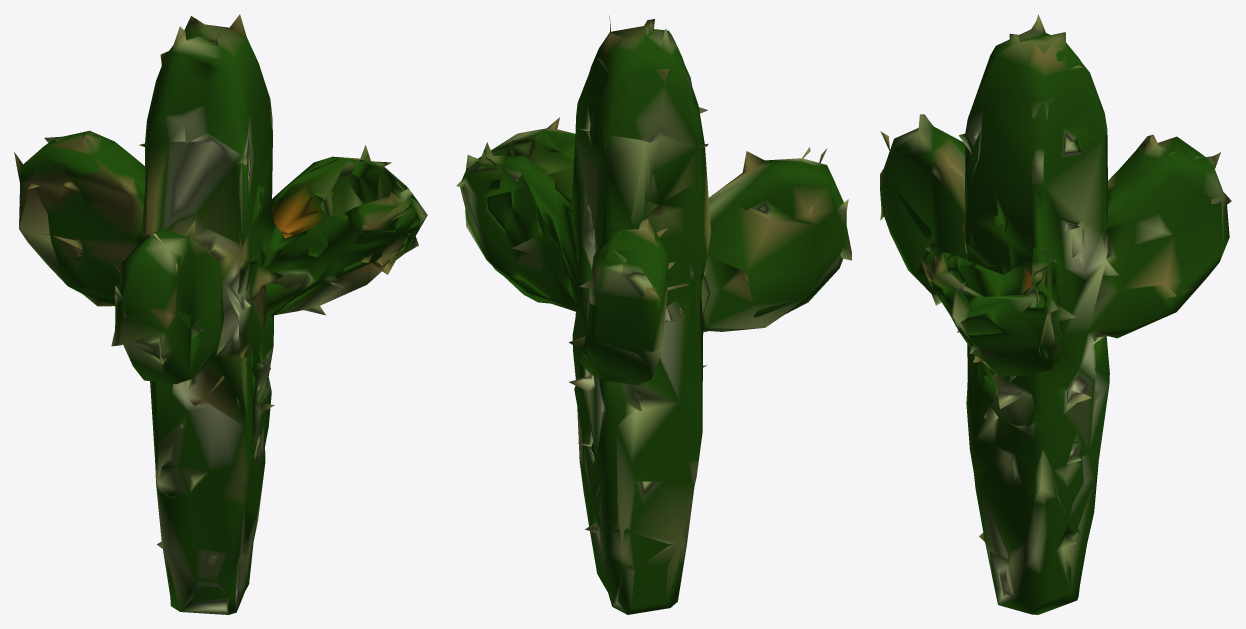
The model's file is gen3d-prickly-pear-cactus-lod0.glb.
3 renders of one model, left to right at view 1: azimuth 30°, elevation 25°; view 2: azimuth 150°, elevation 25°; view 3: azimuth 270°, elevation 25°, orthographic.
Parts seen in each view (by area): view 1: part_0; view 2: part_0; view 3: part_0.
Boxes of the visible parts, box(x1,y1,x2,y2) form: part_0: box(14, 14, 427, 614); part_0: box(456, 15, 851, 614); part_0: box(880, 14, 1231, 614).
Size of the model in its own units: 0.5985 by 0.9991 by 0.5527.
